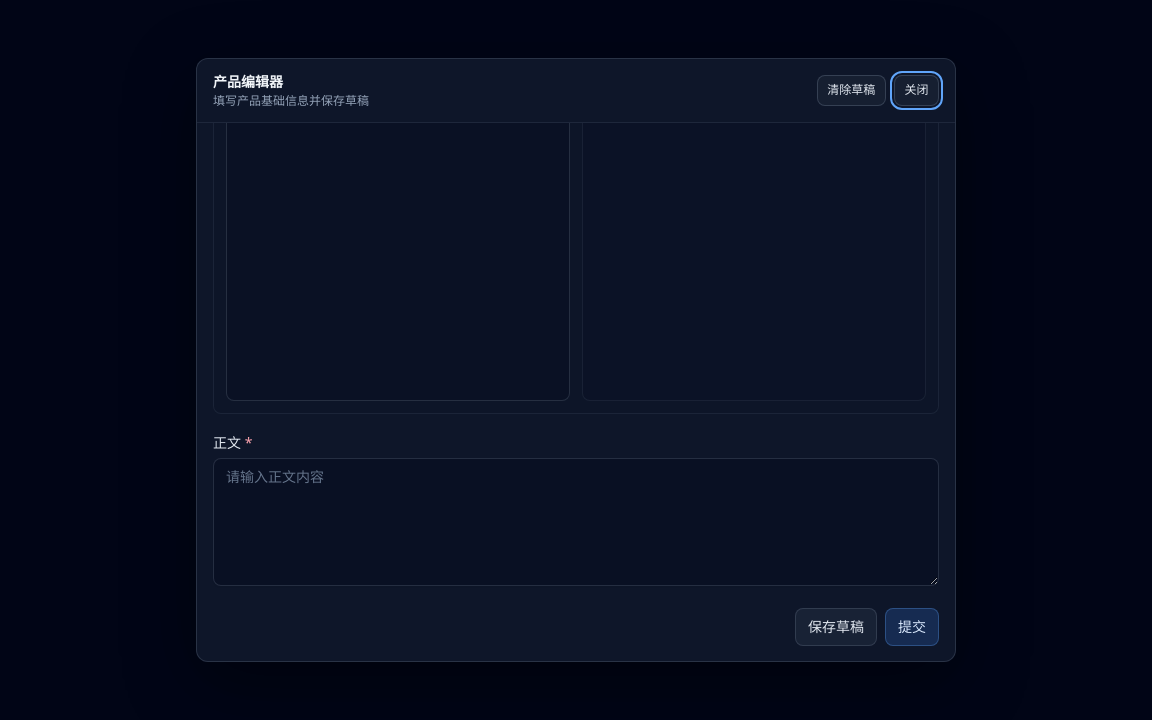
Test: ProductEditor › shows required field errors and blocks submit
(page scrolled)
Click the button "提交". click: (912, 627)
box: [885,608,939,646]
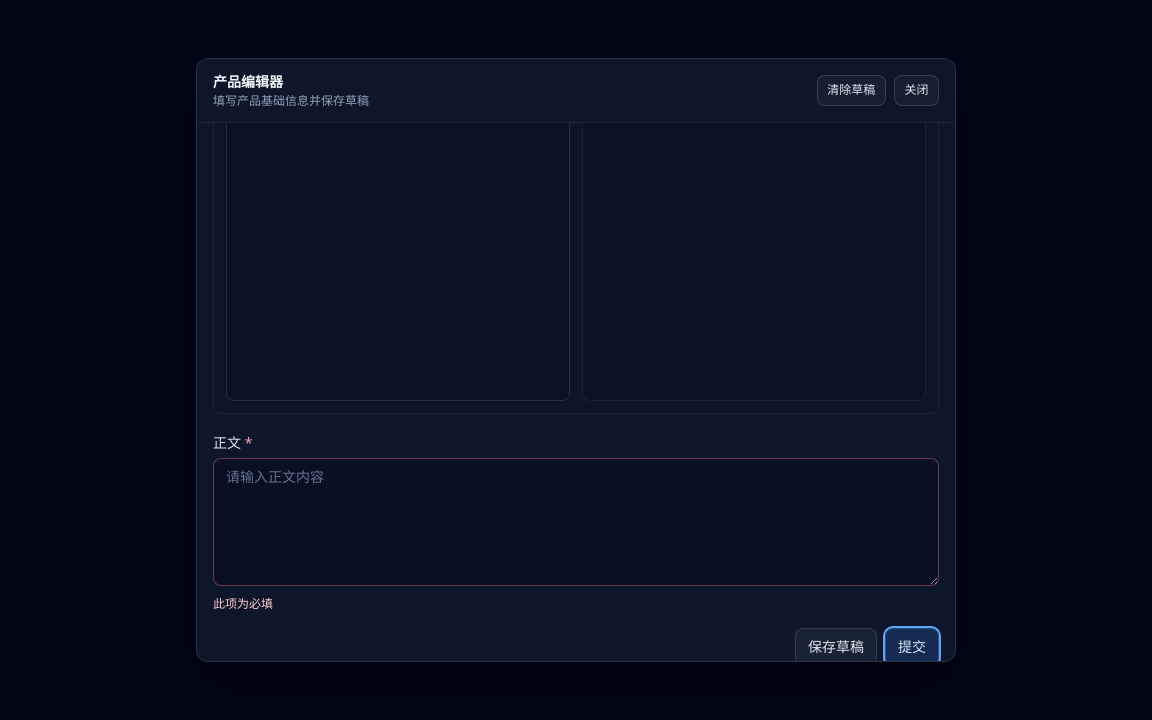
Check: the text "此项为必填" is shown 6 times
